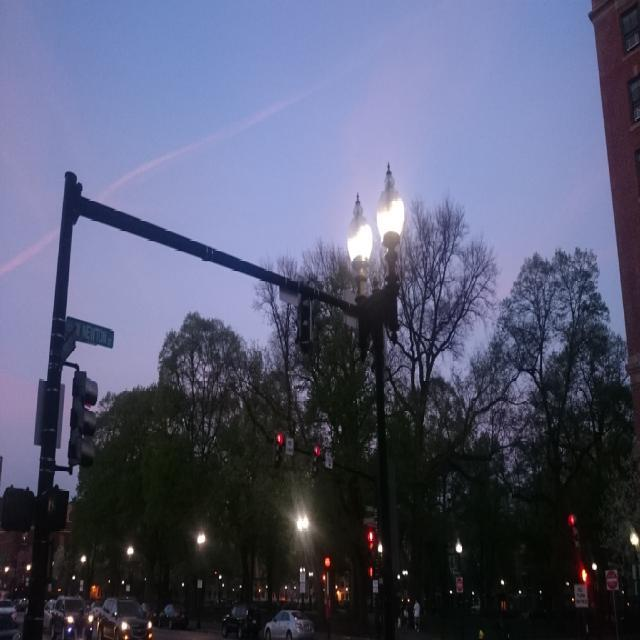off traffic light: (72, 369, 99, 469)
traffic light: (567, 515, 579, 552), (274, 432, 283, 467), (311, 447, 319, 479), (368, 530, 375, 556)
